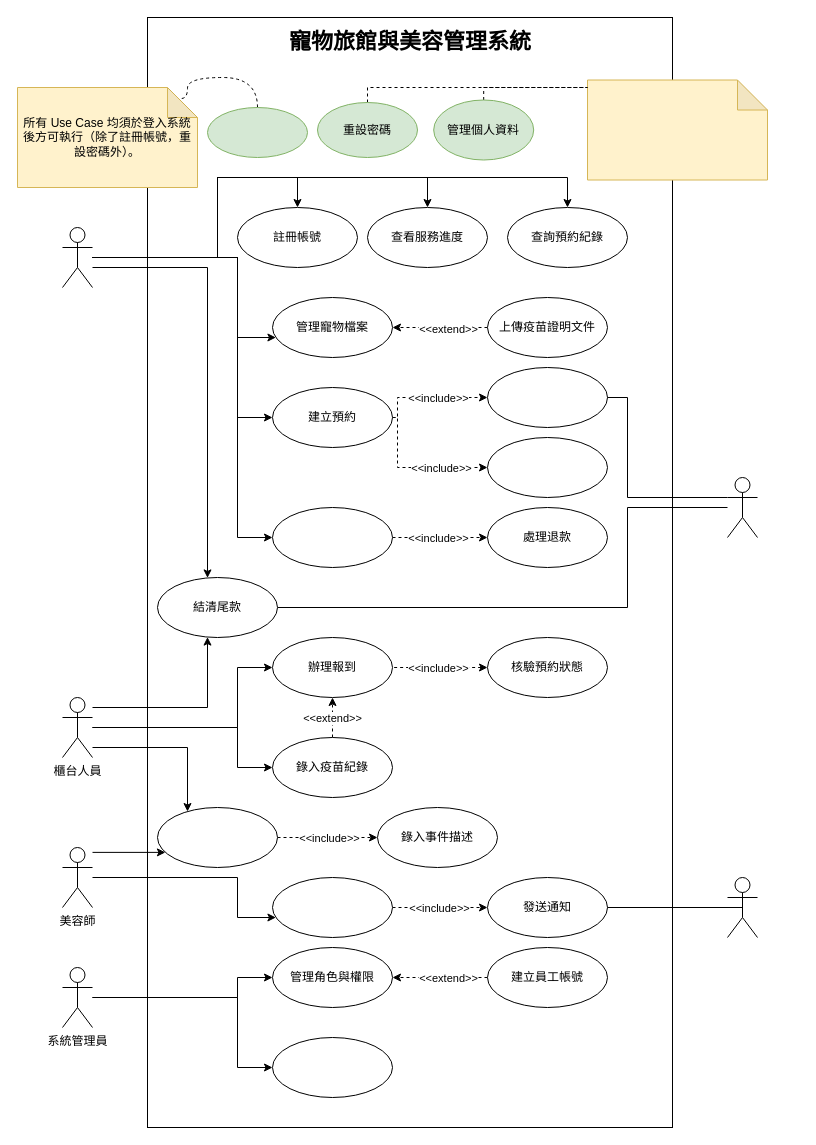
Some shapes in this 816 by 1145 pixel diagram are drawn without their labels. Each missing label, with the centre of its shape:
"<<external system>> 通知服務 FCM/APNs" goes at [742,907].
"<<external system>> 金流服務 EC Pay" goes at [742,507].
"取消預約" goes at [332,537].
"支付訂金" goes at [547,397].
"更新服務狀態" goes at [332,907].
"登入系統" goes at [257,132].
"管理帳號封禁" goes at [332,1067].
"觸發緊急醫療事件" goes at [217,837].
"重設密碼、管理個人資料適用於所有角色，不另行連線標示。" goes at [677,129].
"飼主" goes at [77,257].
"驗證可用性" goes at [547,467].
